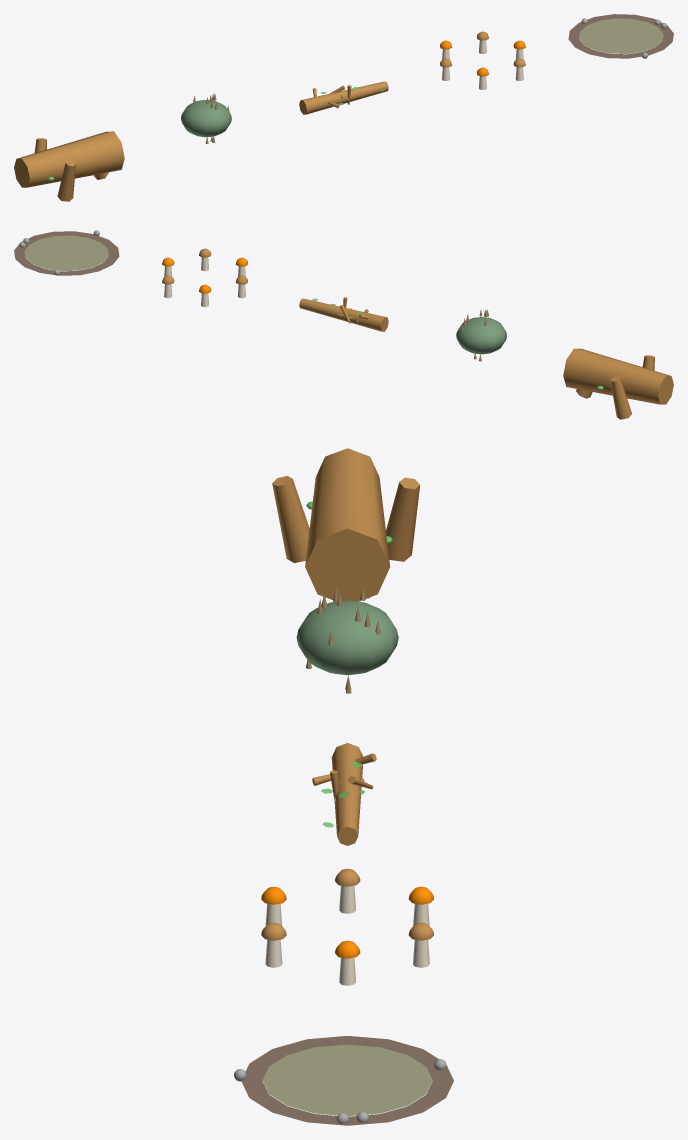
Rendered from obstacles_forest_mobile.glb.
3 views of the same model, one above another, from view 1: azimuth 30°, elevation 25°; view 2: azimuth 150°, elevation 25°; view 3: azimuth 270°, elevation 25° (orthographic). The views are drawn at different scales.
Visible parts, largest first — view 1: puddlePatch, object 1, thornBush, fallenBranch, mushroomRing, object 3; view 2: puddlePatch, object 1, thornBush, fallenBranch, mushroomRing, object 4; view 3: puddlePatch, object 1, thornBush, mushroomRing, fallenBranch, object 3, object 4.
Part boxes in pixels (left/top/right/bottom): puddlePatch: left=568, top=14, right=673, bottom=58; object 1: left=14, top=131, right=124, bottom=187; thornBush: left=181, top=93, right=231, bottom=143; fallenBranch: left=299, top=81, right=388, bottom=114; mushroomRing: left=440, top=31, right=525, bottom=89; object 3: left=57, top=160, right=75, bottom=201; puddlePatch: left=14, top=230, right=119, bottom=275; object 1: left=563, top=348, right=673, bottom=404; thornBush: left=456, top=309, right=506, bottom=361; fallenBranch: left=299, top=297, right=388, bottom=331; mushroomRing: left=162, top=248, right=247, bottom=307; object 4: left=610, top=376, right=631, bottom=419; puddlePatch: left=234, top=1036, right=453, bottom=1125; object 1: left=305, top=448, right=390, bottom=601; thornBush: left=296, top=586, right=398, bottom=693; mushroomRing: left=261, top=868, right=433, bottom=985; fallenBranch: left=312, top=743, right=376, bottom=845; object 3: left=272, top=476, right=309, bottom=563; object 4: left=386, top=477, right=420, bottom=561.
Size of the model in its own units: 14 by 1.24 by 2.07.
